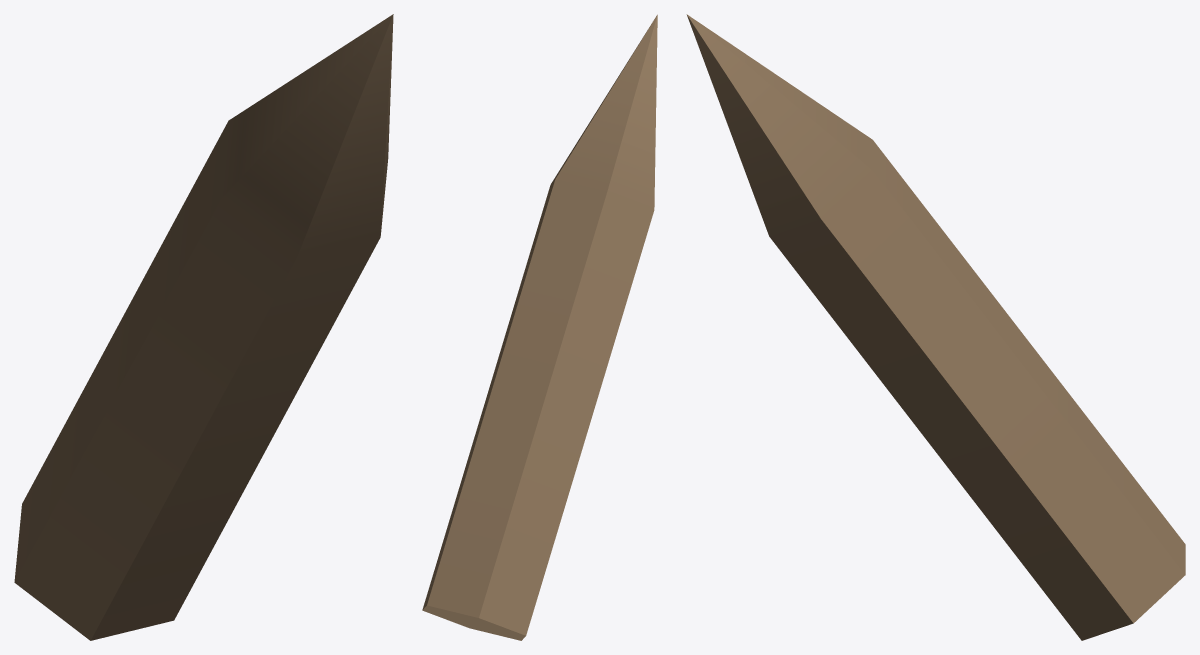
The model's file is env_Spike.fbx.
3 renders of one model, left to right at view 1: azimuth 30°, elevation 25°; view 2: azimuth 150°, elevation 25°; view 3: azimuth 270°, elevation 25°, orthographic. The views are drawn at different scales.
Visible parts, largest first — view 1: env_Spike01; view 2: env_Spike01; view 3: env_Spike01.
Boxes of the visible parts, box(x1,y1,x2,y2) form: env_Spike01: box(14, 14, 393, 640); env_Spike01: box(422, 14, 657, 640); env_Spike01: box(686, 14, 1185, 640).
Size of the model in its own units: 25.26 by 117 by 86.24.
